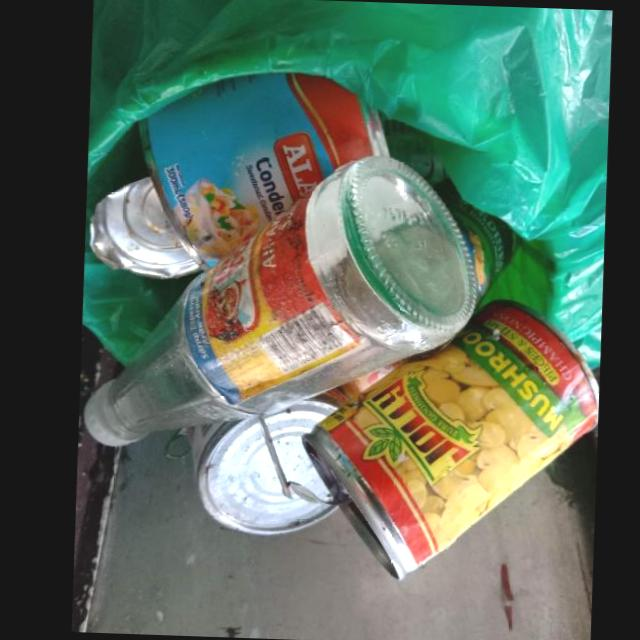chai_thuy_tinh: (83, 154, 476, 446)
nhom: (257, 298, 599, 581), (89, 72, 390, 279), (165, 388, 348, 535)
